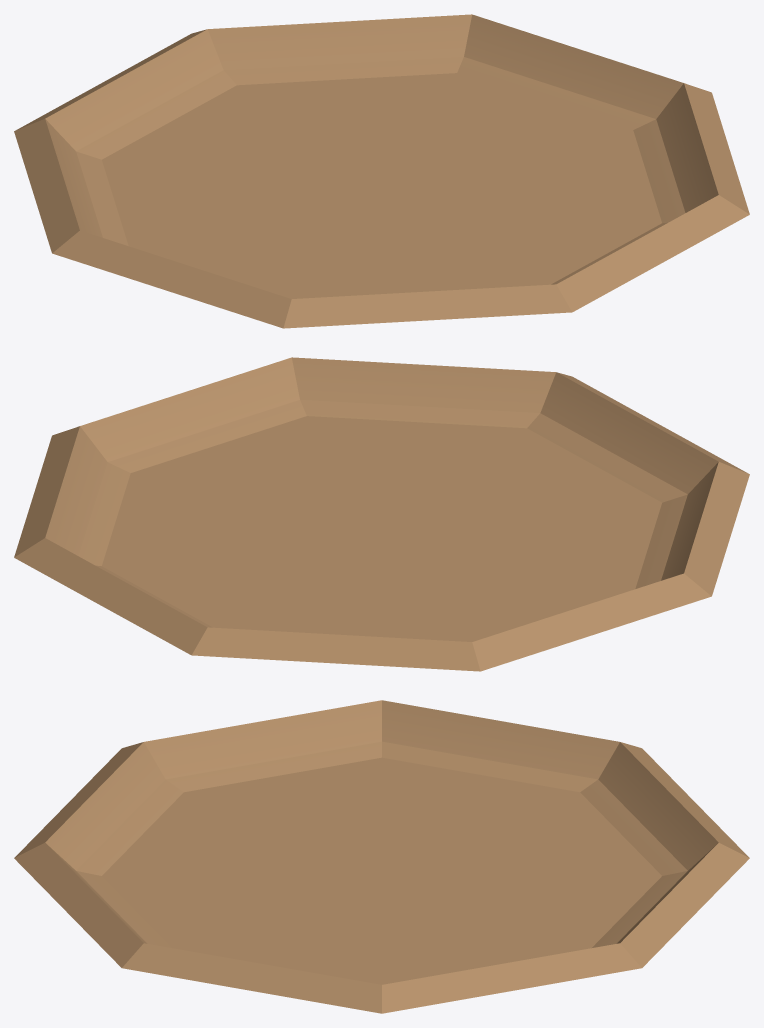
File: Gluttony_Plate.fbx
3 views of the same model, one above another, from view 1: azimuth 30°, elevation 25°; view 2: azimuth 150°, elevation 25°; view 3: azimuth 270°, elevation 25° (orthographic). The views are drawn at different scales.
Parts seen in each view (by area): view 1: Plate1; view 2: Plate1; view 3: Plate1.
Part boxes in pixels (x1,y1,x2,y2): Plate1: (14,14,749,328); Plate1: (14,357,749,671); Plate1: (14,700,749,1013).
Size of the model in its own units: 1.03 by 0.0722 by 1.03.
